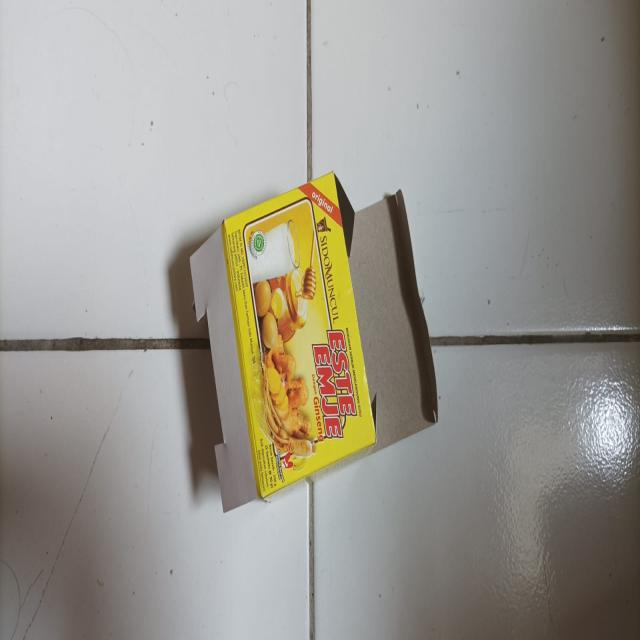Organik: (191, 174, 437, 515)
